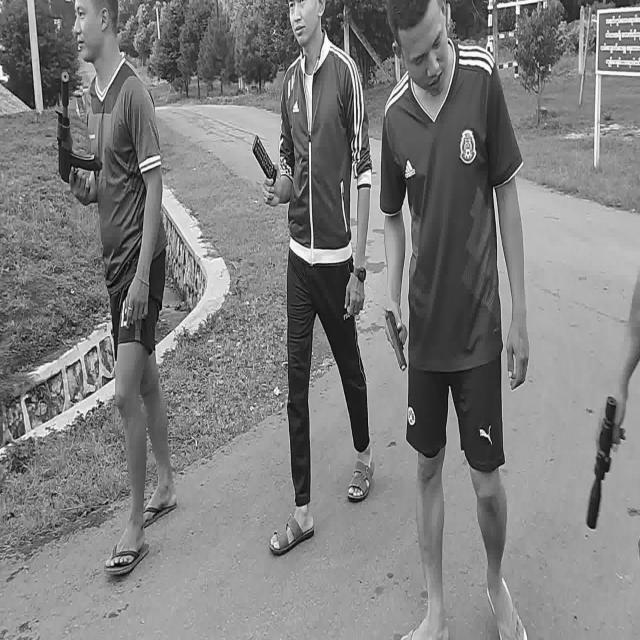gun: (56, 73, 102, 183), (386, 311, 406, 371)
